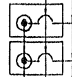Single Phase Tap-Off Unit: (7, 1, 66, 40), (7, 40, 68, 77)
